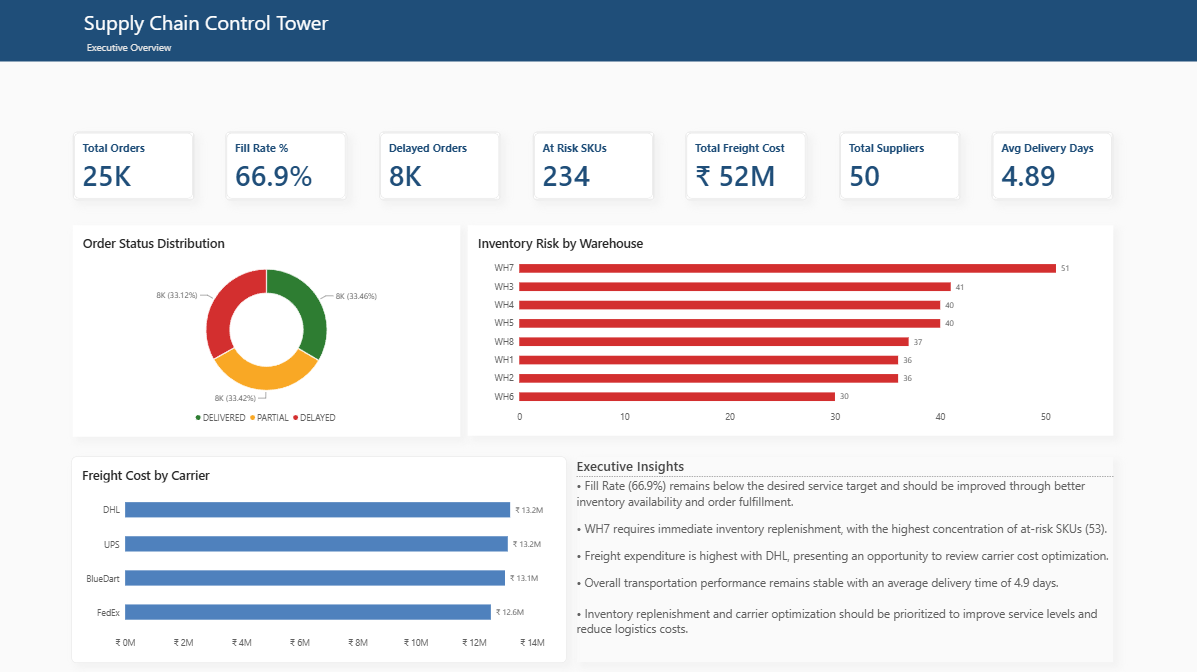

What the dashboard file says about the page in this screenshot:
{"tool":"powerbi","page":{"name":"Executive Supply Chain Dashboard","canvas":[1920,1080],"ordinal":0},"visuals":[{"type":"shape","title":"Supply Chain Control Tower","box":[0,0,1919.6,100],"z":0},{"type":"textbox","box":[116,0,473,75.5],"z":1000},{"type":"textbox","box":[116,49.7,622.1,49.7],"z":2000},{"type":"cardVisual","title":"Total Orders","fields":{"Data":["Measures (2).Total Orders"]},"box":[117.8,211.7,195,110],"z":3000},{"type":"cardVisual","title":"Total Orders","fields":{"Data":["Measures (2).Fill Rate %"]},"box":[362.9,211.7,195,110],"z":4000},{"type":"cardVisual","title":"Total Orders","fields":{"Data":["Measures (2).Delayed Orders"]},"box":[608,211.7,195,110],"z":5000},{"type":"cardVisual","title":"Total Orders","fields":{"Data":["Measures (2).At Risk SKUs"]},"box":[853.1,211.7,195,110],"z":6000},{"type":"cardVisual","title":"Total Orders","fields":{"Data":["Measures (2).Total Freight Cost"]},"box":[1098.2,211.7,195,110],"z":7000},{"type":"cardVisual","title":"Total Orders","fields":{"Data":["Measures (2).Total Suppliers"]},"box":[1343.3,211.7,195,110],"z":8000},{"type":"donutChart","title":"Order Status Distribution","fields":{"Category":["Orders.Order_Status"],"Y":["Measures (2).Total Orders"]},"box":[118,362,620,338],"z":9000},{"type":"clusteredBarChart","title":"Inventory Risk by Warehouse","fields":{"Category":["Inventory.Warehouse_ID"],"Y":["Measures (2).At Risk SKUs"]},"box":[750.9,362.6,1032.5,336.8],"z":10000},{"type":"clusteredBarChart","title":"Freight Cost by Carrier","fields":{"Category":["Transportation.Carrier"],"Y":["Measures (2).Total Freight Cost"]},"box":[116,732,792,330],"z":11000},{"type":"cardVisual","title":"Total Orders","fields":{"Data":["Measures (2).Average Delivery Days"]},"box":[1588.4,211.7,195,110],"z":12000},{"type":"textbox","title":"Executive Insights","box":[923.9,732.5,859.5,329.4],"z":13000}]}

Visuals, with their boxes in screenshot pixels (x1, y1, x2, y2), scaled from the page's 1920x1080 canvas onto the 1197x672 screenshot:
"Supply Chain Control Tower" shape: pyautogui.locateOnScreen(0, 0, 1196, 62)
textbox: pyautogui.locateOnScreen(72, 0, 367, 47)
textbox: pyautogui.locateOnScreen(72, 31, 460, 62)
"Total Orders" cardVisual: pyautogui.locateOnScreen(73, 132, 195, 200)
"Total Orders" cardVisual: pyautogui.locateOnScreen(226, 132, 348, 200)
"Total Orders" cardVisual: pyautogui.locateOnScreen(379, 132, 501, 200)
"Total Orders" cardVisual: pyautogui.locateOnScreen(532, 132, 653, 200)
"Total Orders" cardVisual: pyautogui.locateOnScreen(685, 132, 806, 200)
"Total Orders" cardVisual: pyautogui.locateOnScreen(837, 132, 959, 200)
"Order Status Distribution" donutChart: pyautogui.locateOnScreen(74, 225, 460, 436)
"Inventory Risk by Warehouse" clusteredBarChart: pyautogui.locateOnScreen(468, 226, 1112, 435)
"Freight Cost by Carrier" clusteredBarChart: pyautogui.locateOnScreen(72, 455, 566, 661)
"Total Orders" cardVisual: pyautogui.locateOnScreen(990, 132, 1112, 200)
"Executive Insights" textbox: pyautogui.locateOnScreen(576, 456, 1112, 661)
